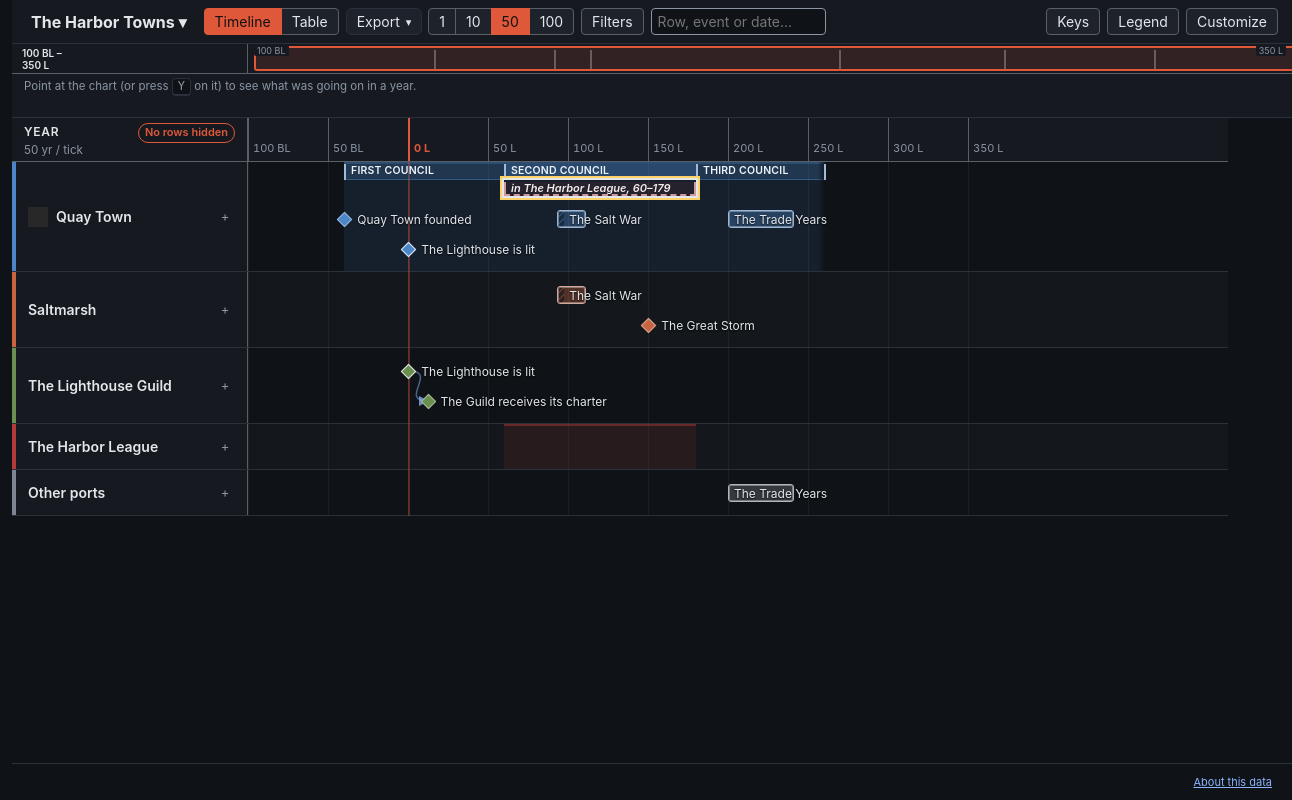
phase strips from the keyboard › keeps a membership’s ref by its place in Track.memberOf, and an editor opening closes a phase’s details
Step 1. Press Enter in the button with class "member", box [504,180,696,196]
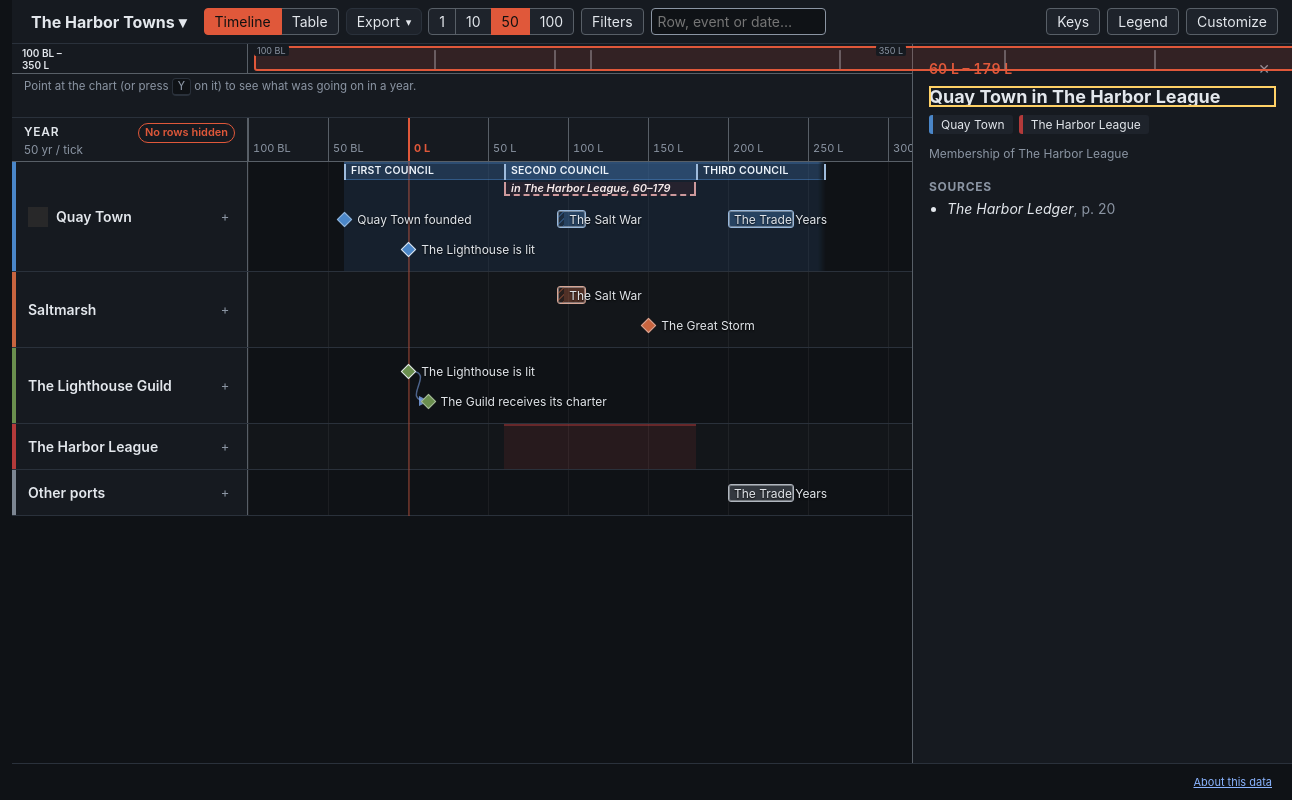
Expected: the heading with id "detail-title" reads "Quay Town in The Harbor League", [929,86,1220,107]
Step 2. Click the button "Customize" → click(1232, 22), box [1186,8,1278,35]
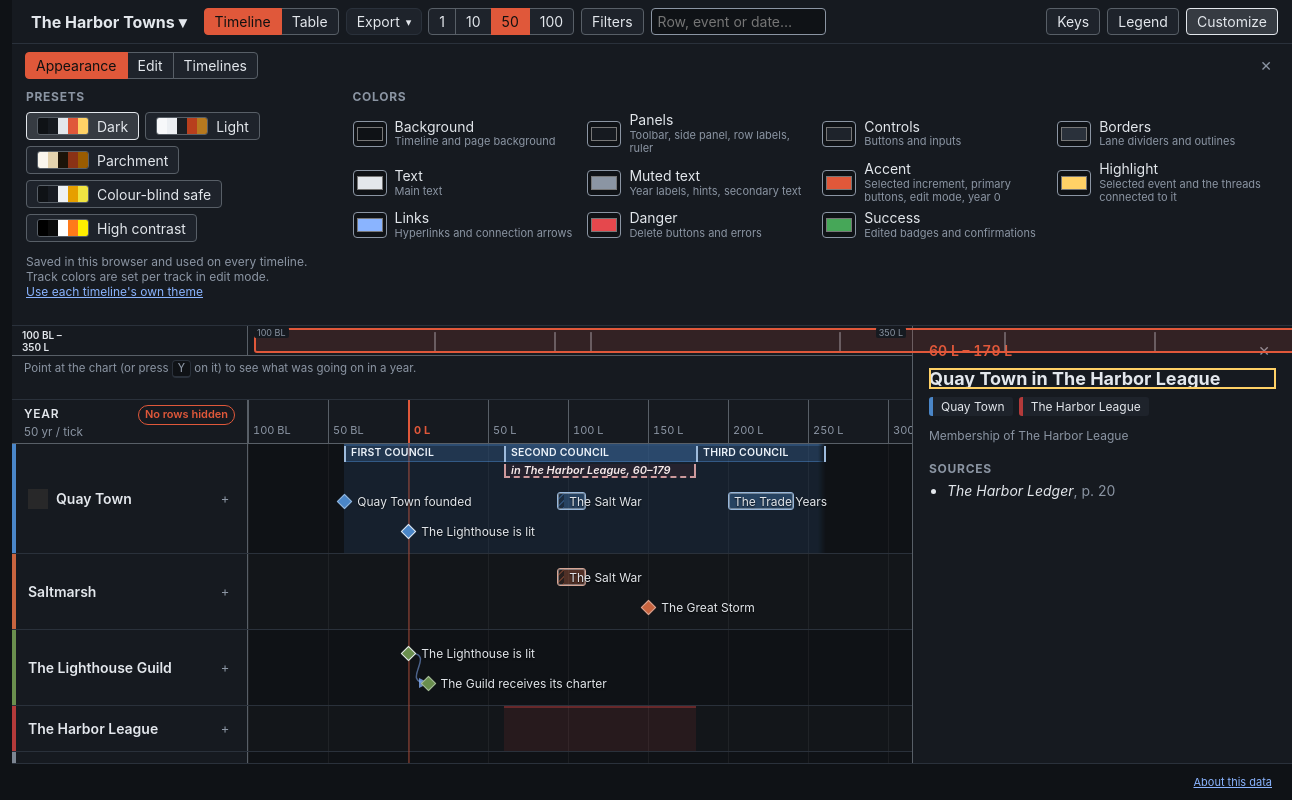
Step 3. Click the tab "Edit" → click(150, 66), box [126,52,174,79]
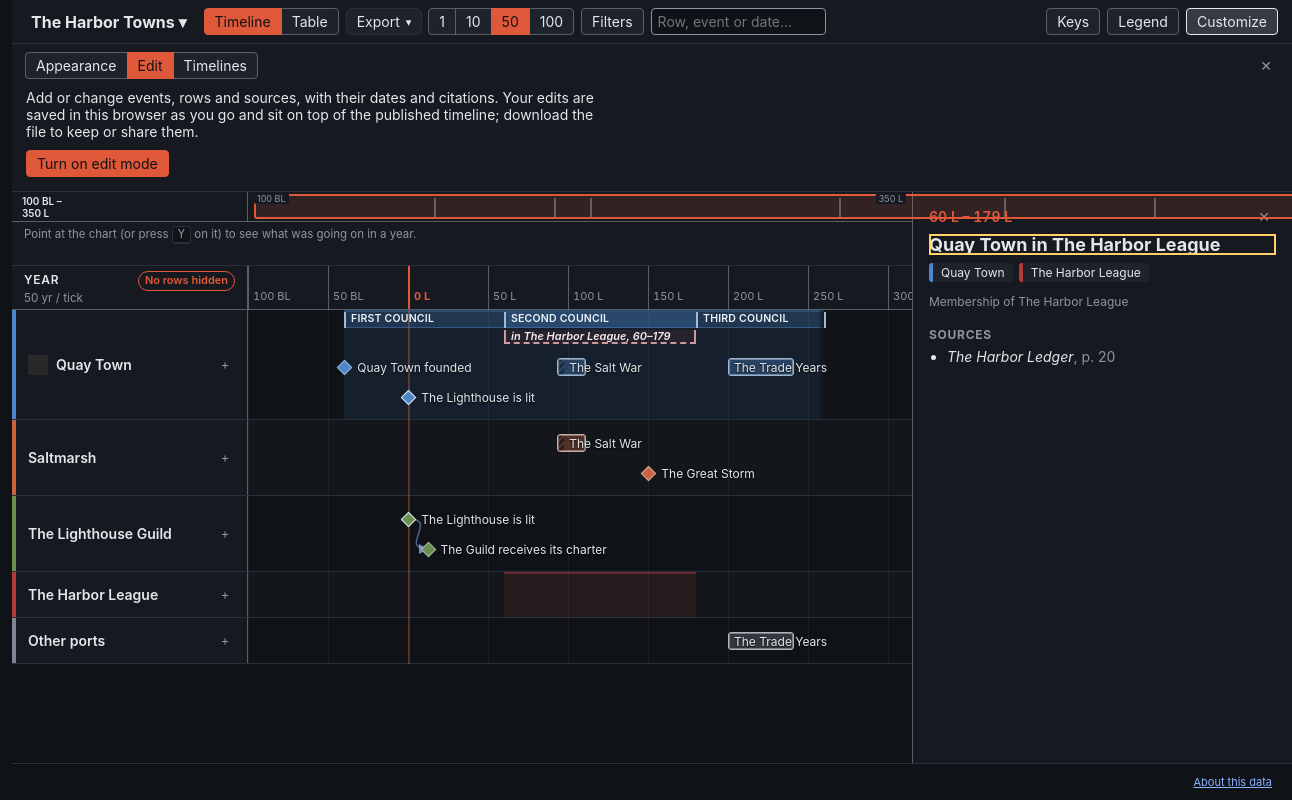
Step 4. Click the button "Turn on edit mode" → click(97, 164), box [26,150,169,177]
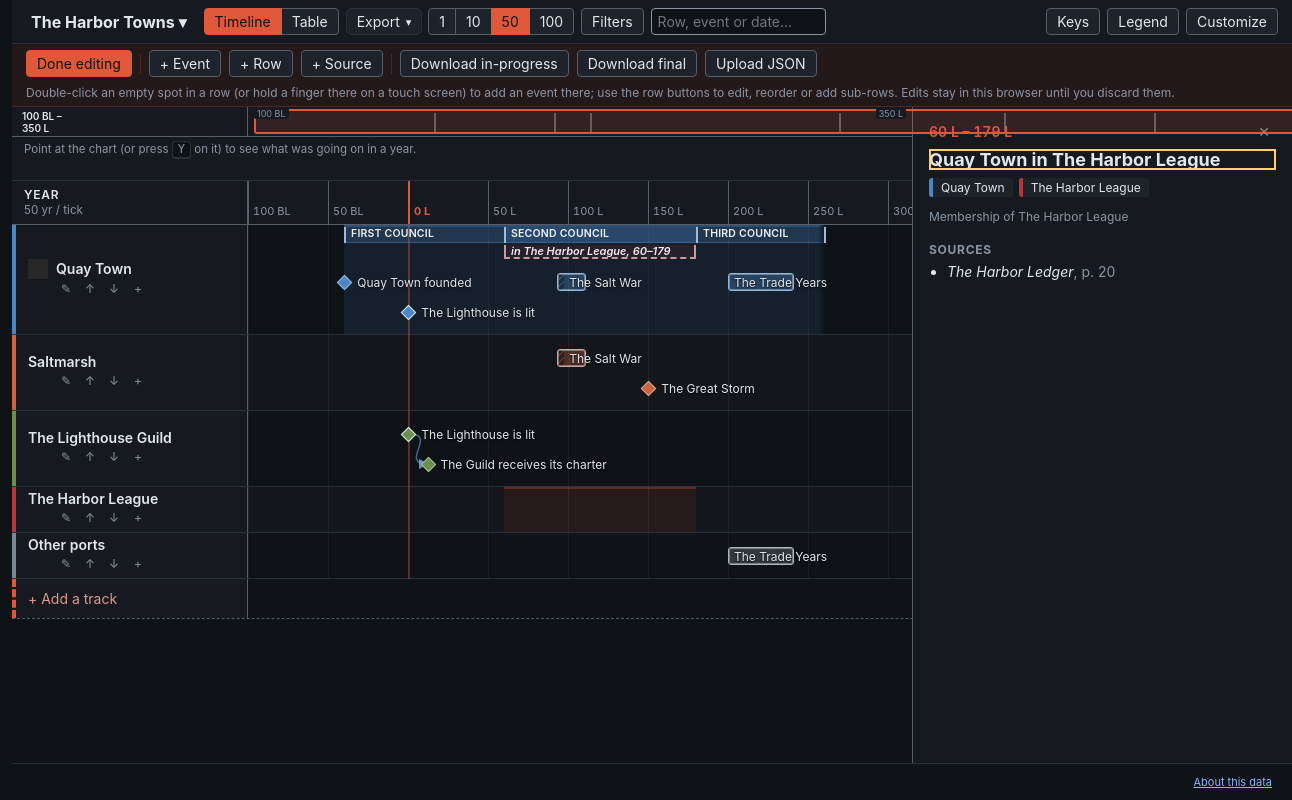
Expected: the button with class "member" is shown, [504,243,696,259]
Step 5. Click the 1st button titled "Edit Quay Town" → click(66, 288), box [54,276,78,300]
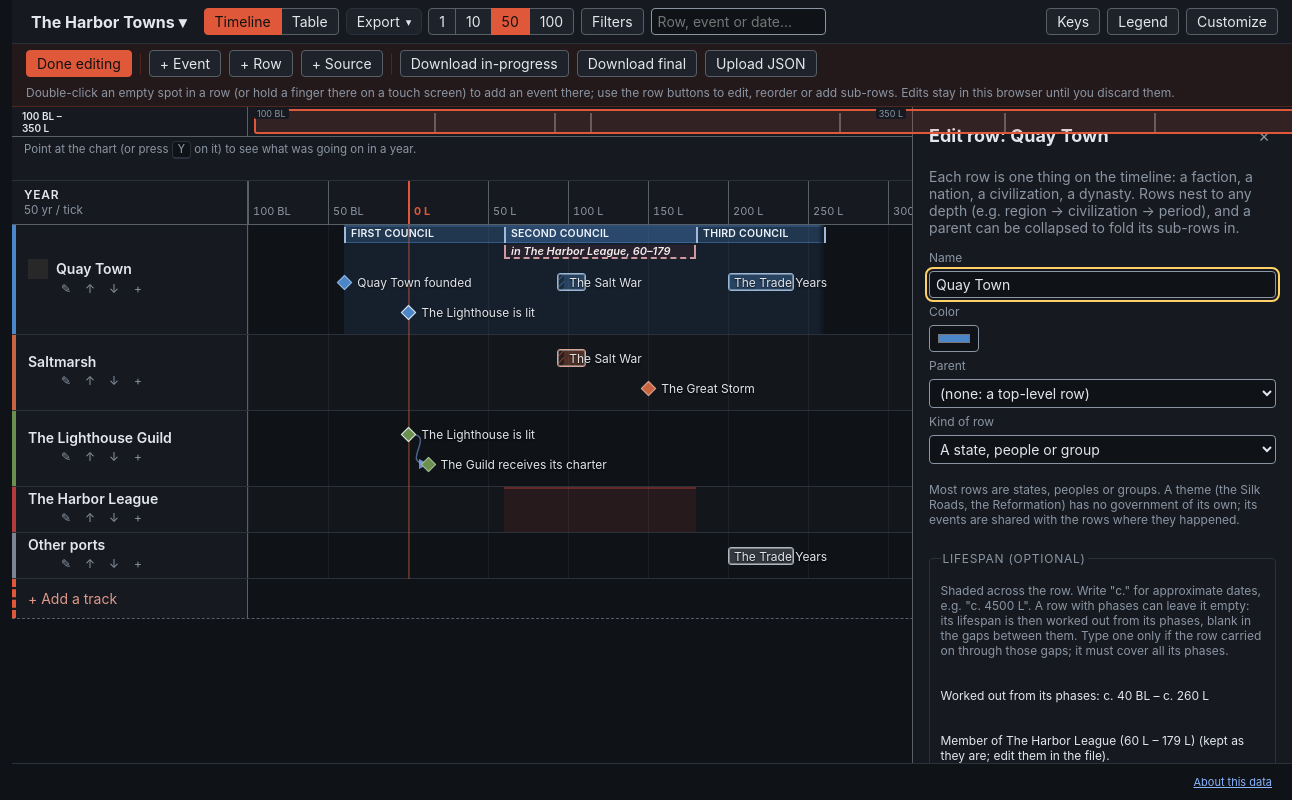
Expected: the heading "Quay Town in The Harbor League" is gone
